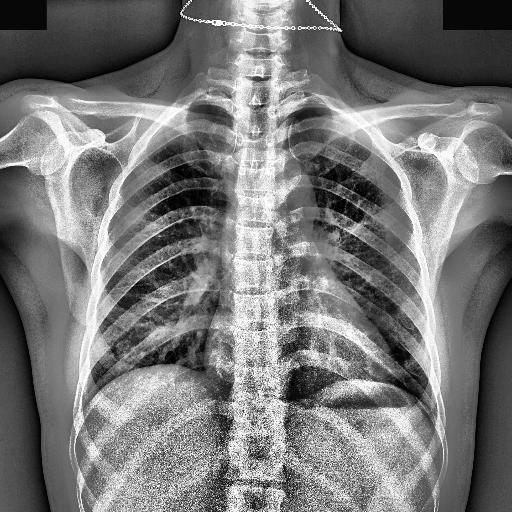0- Aortic enlargement: (261, 168, 317, 228)
3- Cardiomegaly: (202, 314, 400, 384), (204, 340, 400, 391)
8- Nodule-Mass: (115, 342, 136, 360)
9- Other lesion: (115, 342, 136, 360)
